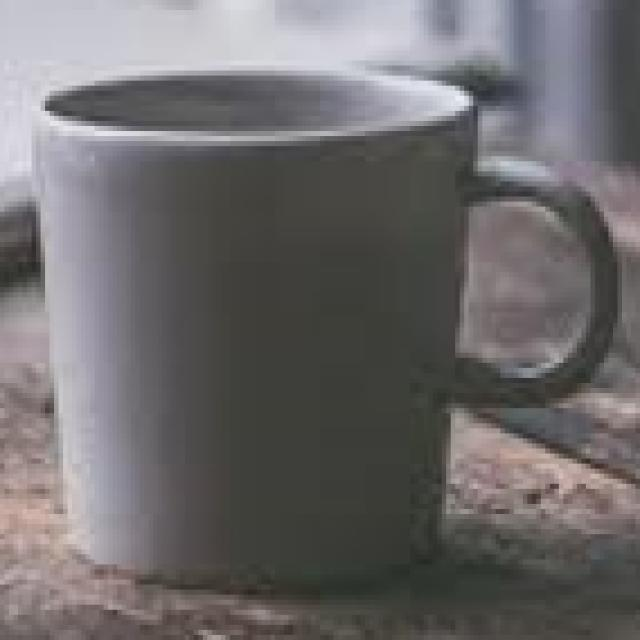taza: (37, 65, 621, 573)
